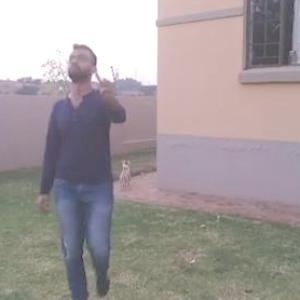takeoff-hand: (91, 66, 122, 97)
